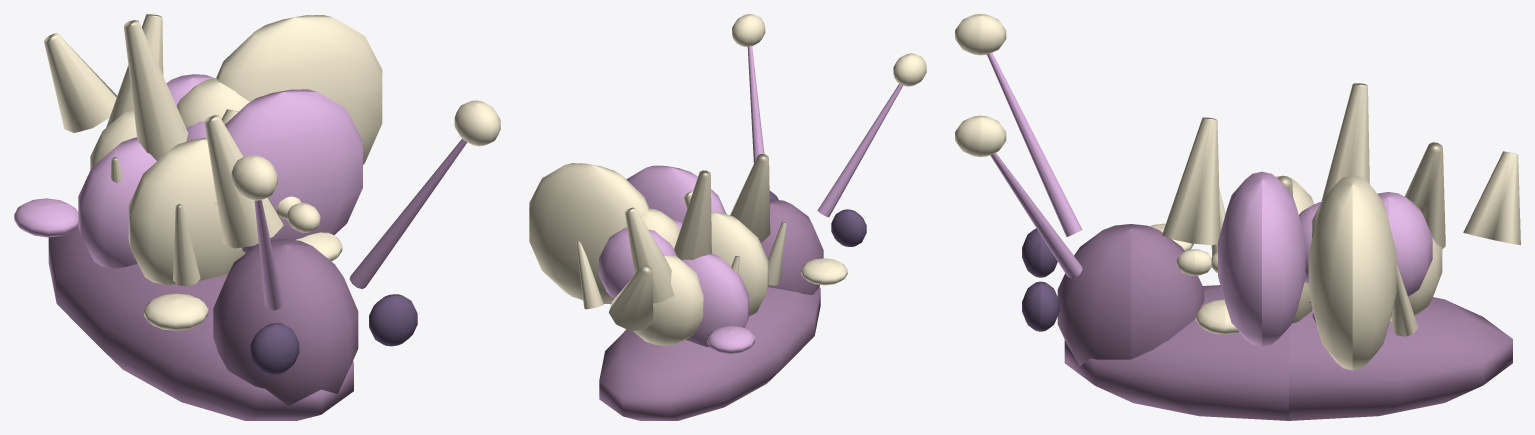
File: SnailStage3Polished.glb
3 renders of one model, left to right at view 1: azimuth 30°, elevation 25°; view 2: azimuth 150°, elevation 25°; view 3: azimuth 270°, elevation 25°, orthographic. The views are drawn at different scales.
Visible parts, largest first — view 1: SlimeFoot, Head, ShellCoil1, ShellCoil0, ShellCoil2, ShellCoil3, CrestSpine_2, CrestSpine_4, CrestSpine_0, AntennaStem1, ShellCoil6, SignatureScale_5 (+12 smaller); view 2: SlimeFoot, ShellCoil0, ShellCoil3, ShellCoil4, Head, ShellCoil2, ShellCoil1, CrestSpine_2, CrestSpine_4, CrestSpine_1, CrestSpine_0, ShellCoil5 (+10 smaller); view 3: SlimeFoot, Head, ShellCoil0, ShellCoil1, CrestSpine_4, CrestSpine_0, ShellCoil5, CrestSpine_2, CrestSpine_1, AntennaStem-1, AntennaStem1, AntennaTip1 (+9 smaller).
Part boxes in pixels (x1,y1,x2,y2): SlimeFoot: [48, 226, 353, 420]; Head: [213, 238, 358, 405]; ShellCoil1: [225, 89, 362, 253]; ShellCoil0: [216, 15, 382, 164]; ShellCoil2: [128, 137, 245, 285]; ShellCoil3: [78, 137, 156, 268]; CrestSpine_2: [124, 20, 188, 160]; CrestSpine_4: [204, 115, 283, 248]; CrestSpine_0: [44, 33, 117, 132]; AntennaStem1: [349, 139, 467, 288]; ShellCoil6: [176, 78, 249, 127]; SignatureScale_5: [14, 198, 78, 237]; SlimeFoot: [599, 287, 820, 420]; ShellCoil0: [529, 163, 649, 304]; ShellCoil3: [682, 254, 748, 347]; ShellCoil4: [633, 255, 703, 345]; Head: [760, 199, 823, 294]; ShellCoil2: [711, 212, 768, 316]; ShellCoil1: [626, 165, 726, 223]; CrestSpine_2: [674, 170, 711, 260]; CrestSpine_4: [730, 154, 770, 242]; CrestSpine_1: [625, 207, 674, 303]; CrestSpine_0: [609, 265, 653, 330]; ShellCoil5: [599, 228, 677, 298]; SlimeFoot: [1064, 285, 1512, 420]; Head: [1057, 224, 1204, 365]; ShellCoil0: [1308, 175, 1396, 370]; ShellCoil1: [1218, 171, 1305, 346]; CrestSpine_4: [1162, 117, 1220, 245]; CrestSpine_0: [1463, 151, 1520, 245]; ShellCoil5: [1378, 192, 1432, 296]; CrestSpine_2: [1321, 83, 1369, 201]; CrestSpine_1: [1404, 142, 1445, 248]; AntennaStem-1: [987, 52, 1082, 236]; AntennaStem1: [990, 152, 1082, 278]; AntennaTip1: [955, 115, 1006, 156].
Size of the model in its own units: 1.22 by 1.22 by 1.85.
